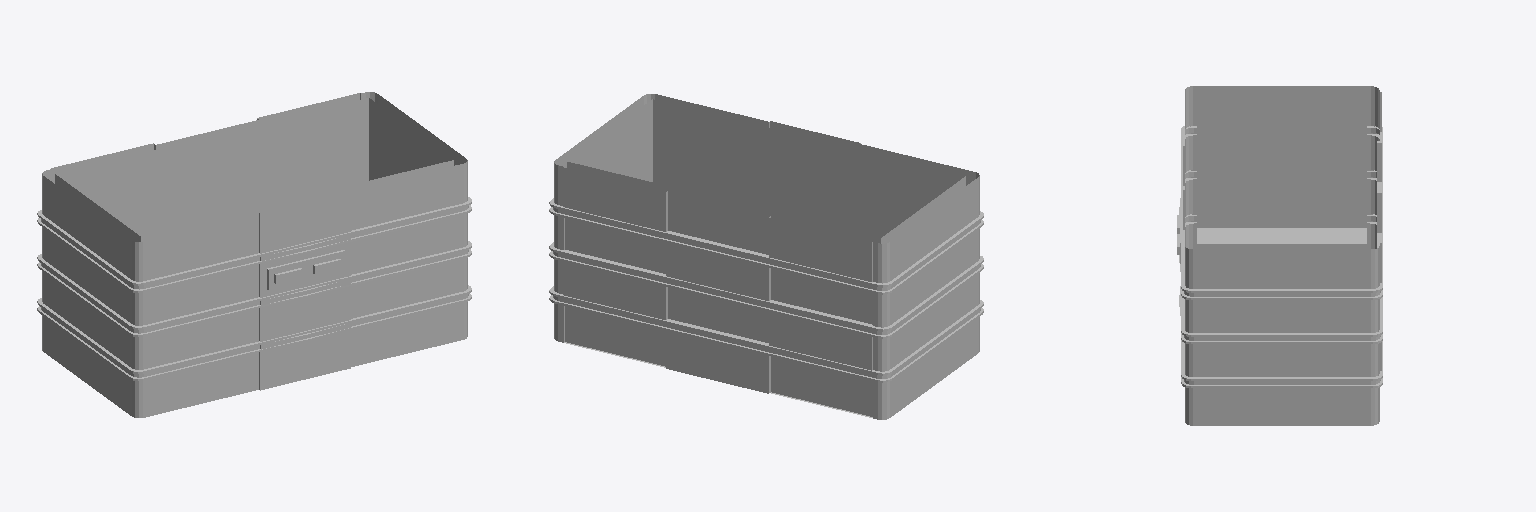
The model's file is Cofre.obj.
The picture shows the model from 3 angles: view 1: azimuth 30°, elevation 25°; view 2: azimuth 150°, elevation 25°; view 3: azimuth 270°, elevation 25°; orthographic projection.
Visible parts, largest first — view 1: Cofre:polySurface3; view 2: Cofre:polySurface3; view 3: Cofre:polySurface3.
Boxes of the visible parts, box(x1,y1,x2,y2) form: Cofre:polySurface3: box(37, 92, 471, 417); Cofre:polySurface3: box(549, 94, 983, 419); Cofre:polySurface3: box(1177, 86, 1382, 425).
Bounding box in the file's own units: 0.6968 × 0.3443 × 0.3655.